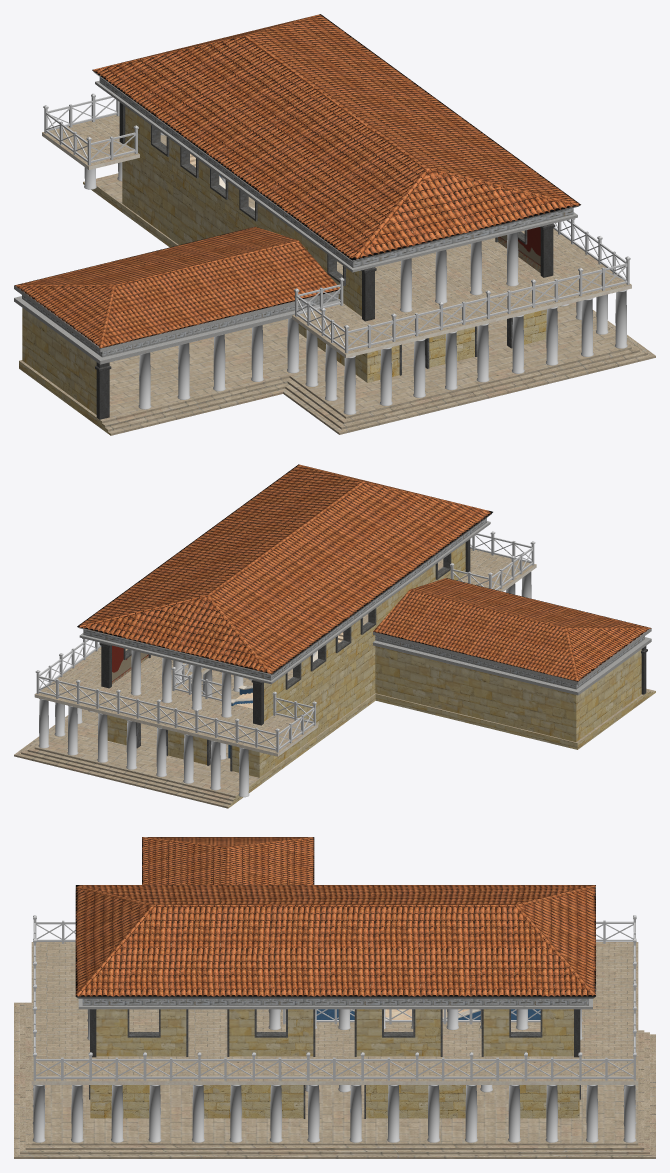
The model's file is budynek009.fbx.
3 views of the same model, one above another, from view 1: azimuth 30°, elevation 25°; view 2: azimuth 150°, elevation 25°; view 3: azimuth 270°, elevation 25° (orthographic). The views are drawn at different scales.
Visible parts, largest first — view 1: dach gora, Plane.057, dach dol, podloga gora, Plane.046, sciany gora, Cube.001, Cube.041, Circle.006, Circle.007, Circle.002, Circle.005 (+24 smaller); view 2: dach gora, dach dol, Plane.046, Plane.057, podloga gora, sciany gora, Circle.016, Circle.021, Circle.019, Circle.017; view 3: dach gora, Plane.057, podloga gora, sciany gora, Plane.046, dach dol, Circle.029, Circle.024, Circle.032, Circle.037, Circle.036, Circle.033 (+23 smaller).
Boxes of the visible parts, x1,y1,x2,y2 form: dach gora: (92, 14, 580, 272); Plane.057: (19, 173, 655, 435); dach dol: (14, 226, 339, 364); podloga gora: (42, 114, 631, 357); Plane.046: (22, 156, 546, 414); sciany gora: (125, 106, 540, 316); Cube.001: (95, 362, 111, 419); Cube.041: (539, 223, 555, 277); Circle.006: (476, 323, 489, 382); Circle.007: (343, 356, 356, 414); Circle.002: (546, 306, 558, 365); Circle.005: (445, 331, 457, 390); dach gora: (77, 464, 492, 684); dach dol: (373, 578, 651, 695); Plane.046: (107, 644, 641, 777); Plane.057: (14, 669, 655, 808); podloga gora: (34, 548, 536, 756); sciany gora: (112, 542, 465, 721); Circle.016: (156, 727, 166, 776); Circle.021: (126, 720, 136, 769); Circle.019: (210, 740, 220, 790); Circle.017: (183, 734, 193, 783); dach gora: (75, 885, 595, 1009); Plane.057: (14, 1002, 655, 1158); podloga gora: (31, 942, 638, 1084); sciany gora: (96, 1009, 573, 1056); Plane.046: (89, 1085, 580, 1118); dach dol: (142, 837, 314, 884); Circle.029: (465, 1085, 477, 1142); Circle.024: (508, 1085, 520, 1142); Circle.032: (192, 1085, 204, 1142); Circle.037: (148, 1085, 161, 1142); Circle.036: (111, 1085, 123, 1142); Circle.033: (229, 1085, 242, 1142).
Bounding box in the file's own units: 26.94 × 9.27 × 30.51.
11 materials, 8 textured.
